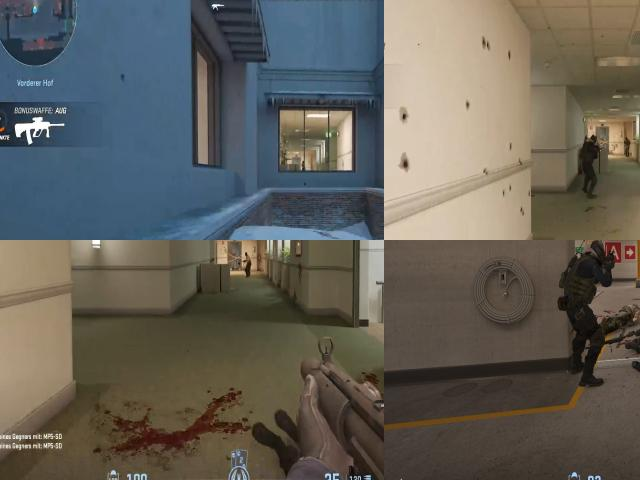CT: (570, 240, 605, 374), (582, 130, 598, 174)
CT-Head: (587, 240, 604, 258), (587, 134, 597, 148)
Dead: (603, 298, 640, 334)
T: (242, 248, 254, 276)
T-Head: (244, 249, 250, 261)
